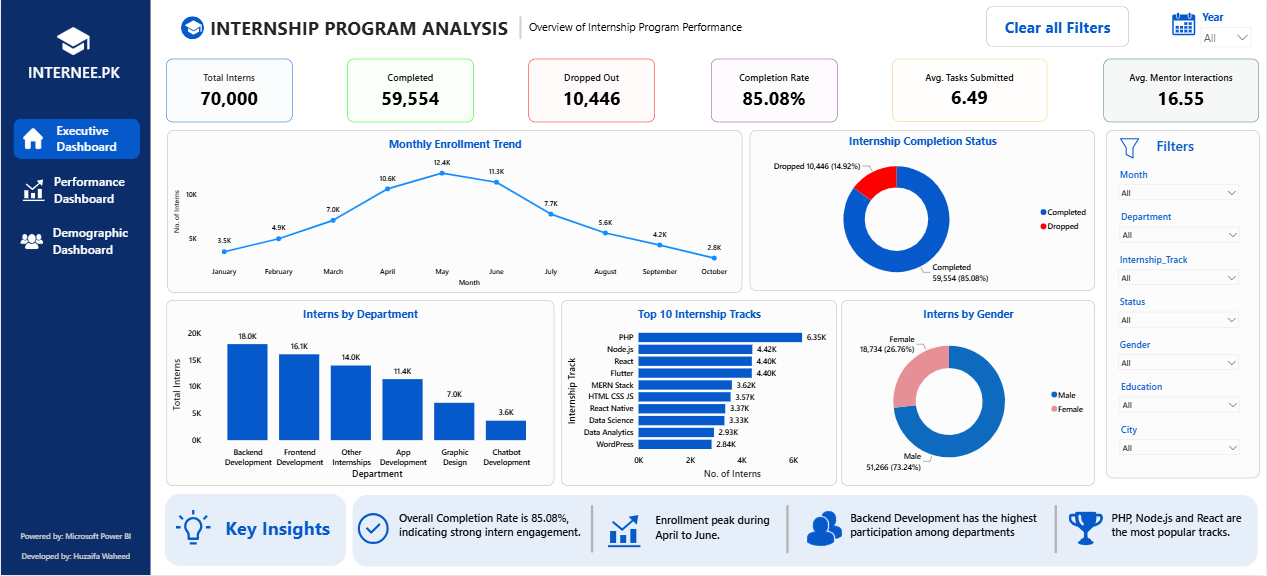

The dashboard page shown, as its layout file describes it:
{"tool":"powerbi","page":{"name":"Executive Dashboard","canvas":[2200,1000],"ordinal":0},"visuals":[{"type":"shape","box":[0,0,260,1000],"z":0},{"type":"shape","box":[1921.4,225.7,267.1,605.7],"z":0,"group":"g6"},{"type":"image","box":[32.4,309.7,45.7,40],"z":0,"group":"g1"},{"type":"image","box":[32.1,399.7,45.7,40],"z":0,"group":"g3"},{"type":"shape","box":[314,28.3,40,40],"z":1000},{"type":"image","box":[1939.1,231.9,47.3,48.5],"z":1000,"group":"g6"},{"type":"textbox","box":[86.4,295.4,150,70],"z":1000,"group":"g1"},{"type":"textbox","box":[86.4,384,150,70],"z":1000,"group":"g3"},{"type":"image","box":[95.7,41.4,60,60],"z":2000},{"type":"textbox","box":[2004.9,233.3,114.3,44.3],"z":2000,"group":"g6"},{"type":"textbox","box":[36,102,180,50.4],"z":3000},{"type":"shape","box":[21,206,220,70],"z":3000,"group":"g2"},{"type":"group","id":"g1","title":"Group 2","box":[32.4,295.4,204,70],"z":3000,"group":"g4"},{"type":"group","id":"g2","title":"Group 1","box":[21,206,220,70],"z":4000},{"type":"image","box":[32.4,221.7,45.7,40],"z":4000,"group":"g2"},{"type":"group","id":"g3","title":"Group 3","box":[32.1,384,204.3,70],"z":4000,"group":"g5"},{"type":"textbox","box":[89.6,206,150,70],"z":5000,"group":"g2"},{"type":"group","id":"g4","title":"Group 4","box":[20.4,295.2,219.6,70.2],"z":5000},{"type":"group","id":"g5","title":"Group 5","box":[20.4,384,219.6,70],"z":6000},{"type":"image","box":[318.8,33.2,30.4,30.7],"z":7000},{"type":"actionButton","box":[20.4,295.2,219.6,69.6],"z":7000,"group":"g4"},{"type":"textbox","box":[358.1,21.2,545.7,61.4],"z":8000},{"type":"actionButton","box":[20.4,384,219.6,69.6],"z":8000,"group":"g5"},{"type":"shape","box":[893.8,28.3,20,40],"z":9000},{"type":"textbox","box":[913.3,28,413.7,44],"z":10000},{"type":"slicer","fields":{"Values":["internship_program_2025.Enrollment_Date.Variation.Date Hierarchy.Year"]},"box":[2077,10,108,80],"z":11000},{"type":"image","box":[2036,21,40,40],"z":12000},{"type":"cardVisual","fields":{"Data":["internship_program_2025.Total Interns"]},"box":[286.7,101.7,220,110],"z":13000},{"type":"cardVisual","fields":{"Data":["internship_program_2025.Completed Interns"]},"box":[602.5,102,220,110],"z":14000},{"type":"cardVisual","fields":{"Data":["internship_program_2025.Dropped Interns"]},"box":[918.3,102,220,110],"z":15000},{"type":"cardVisual","fields":{"Data":["internship_program_2025.Completion Rate"]},"box":[1234.1,101.7,220,110],"z":16000},{"type":"cardVisual","fields":{"Data":["internship_program_2025.Average Tasks Submitted"]},"box":[1550.9,101.9,269.8,109.9],"z":17000},{"type":"cardVisual","fields":{"Data":["internship_program_2025.Average Mentor Interactions"]},"box":[1916.5,102,270,110],"z":18000},{"type":"lineChart","title":"Monthly Enrollment Trend","fields":{"Y":["internship_program_2025.Total Interns"],"Category":["internship_program_2025.Enrollment_Date.Variation.Date Hierarchy.Month"]},"box":[288.3,225,1000,283.3],"z":19000},{"type":"group","id":"g6","title":"Group 6","box":[1921.4,225.7,267.1,605.7],"z":20000},{"type":"slicer","fields":{"Values":["internship_program_2025.Enrollment_Date.Variation.Date Hierarchy.Month"]},"box":[1933.1,286.4,230,70],"z":21000},{"type":"slicer","fields":{"Values":["internship_program_2025.Department"]},"box":[1934,360,230,70],"z":22000},{"type":"slicer","fields":{"Values":["internship_program_2025.Internship_Track"]},"box":[1933.1,434,230,70],"z":23000},{"type":"slicer","fields":{"Values":["internship_program_2025.Status"]},"box":[1933.1,508,230,70],"z":24000},{"type":"slicer","fields":{"Values":["internship_program_2025.Gender"]},"box":[1933.1,582,230,70],"z":25000},{"type":"slicer","fields":{"Values":["internship_program_2025.Education"]},"box":[1934.6,656,230,70],"z":26000},{"type":"slicer","fields":{"Values":["internship_program_2025.City"]},"box":[1934.6,730,230,70],"z":27000},{"type":"donutChart","title":"Internship Completion Status","fields":{"Category":["internship_program_2025.Status"],"Y":["internship_program_2025.Total Interns"]},"box":[1302.5,225,600,280],"z":28000},{"type":"clusteredColumnChart","title":"Interns by Department","fields":{"Category":["internship_program_2025.Department"],"Y":["internship_program_2025.Total Interns"]},"box":[286.7,521.7,675,323.3],"z":29000},{"type":"clusteredBarChart","title":"Top 10 Internship Tracks","fields":{"Category":["internship_program_2025.Internship_Track"],"Y":["internship_program_2025.Total Interns"]},"box":[973.3,521.7,480,323.3],"z":30000},{"type":"donutChart","title":"Interns by Gender","fields":{"Category":["internship_program_2025.Gender"],"Y":["internship_program_2025.Total Interns"]},"box":[1461.7,521.7,441.7,323.3],"z":31000},{"type":"shape","box":[285.8,859.4,315.8,125.9],"z":32000},{"type":"image","box":[303.8,887.4,60,60],"z":33000},{"type":"shape","box":[610,860,1575,125],"z":34000},{"type":"textbox","box":[377.7,891.4,205.9,56],"z":35000},{"type":"image","box":[617.1,890,60,60],"z":36000},{"type":"textbox","box":[687.1,882.9,331.4,74.3],"z":37000},{"type":"shape","box":[1004.3,878.6,47.1,82.9],"z":38000},{"type":"image","box":[1051.4,892.9,60,60],"z":39000},{"type":"textbox","box":[1132.9,887.1,235.7,71.4],"z":40000},{"type":"shape","box":[1344.3,878.6,48.6,84.3],"z":41000},{"type":"image","box":[1401.4,890,60,60],"z":42000},{"type":"textbox","box":[1471.4,882.9,350,74.3],"z":43000},{"type":"shape","box":[1810,878.6,47.1,84.3],"z":44000},{"type":"image","box":[1857.1,890,60,60],"z":45000},{"type":"textbox","box":[1927.1,882.9,244.3,74.3],"z":46000},{"type":"actionButton","box":[1713.3,11,248.8,70.5],"z":46001}]}

Visuals, with their boxes in screenshot pixels (x1, y1, x2, y2), scaled from the page's 2200x1000 canvas onto the 1267x576 screenshot:
shape: [x1=0, y1=0, x2=150, y2=575]
shape: [x1=1107, y1=130, x2=1260, y2=479]
image: [x1=19, y1=178, x2=45, y2=201]
image: [x1=18, y1=230, x2=45, y2=253]
shape: [x1=181, y1=16, x2=204, y2=39]
image: [x1=1117, y1=134, x2=1144, y2=162]
textbox: [x1=50, y1=170, x2=136, y2=210]
textbox: [x1=50, y1=221, x2=136, y2=262]
image: [x1=55, y1=24, x2=90, y2=58]
textbox: [x1=1155, y1=134, x2=1220, y2=160]
textbox: [x1=21, y1=59, x2=124, y2=88]
shape: [x1=12, y1=119, x2=139, y2=159]
"Group 2" group: [x1=19, y1=170, x2=136, y2=210]
"Group 1" group: [x1=12, y1=119, x2=139, y2=159]
image: [x1=19, y1=128, x2=45, y2=151]
"Group 3" group: [x1=18, y1=221, x2=136, y2=262]
textbox: [x1=52, y1=119, x2=138, y2=159]
"Group 4" group: [x1=12, y1=170, x2=138, y2=210]
"Group 5" group: [x1=12, y1=221, x2=138, y2=262]
image: [x1=184, y1=19, x2=201, y2=37]
actionButton: [x1=12, y1=170, x2=138, y2=210]
textbox: [x1=206, y1=12, x2=521, y2=48]
actionButton: [x1=12, y1=221, x2=138, y2=261]
shape: [x1=515, y1=16, x2=526, y2=39]
textbox: [x1=526, y1=16, x2=764, y2=41]
slicer - internship_program_2025.Enrollment_Date.Variation.Date Hierarchy.Year: [x1=1196, y1=6, x2=1258, y2=52]
image: [x1=1173, y1=12, x2=1196, y2=35]
cardVisual - internship_program_2025.Total Interns: [x1=165, y1=59, x2=292, y2=122]
cardVisual - internship_program_2025.Completed Interns: [x1=347, y1=59, x2=474, y2=122]
cardVisual - internship_program_2025.Dropped Interns: [x1=529, y1=59, x2=656, y2=122]
cardVisual - internship_program_2025.Completion Rate: [x1=711, y1=59, x2=837, y2=122]
cardVisual - internship_program_2025.Average Tasks Submitted: [x1=893, y1=59, x2=1049, y2=122]
cardVisual - internship_program_2025.Average Mentor Interactions: [x1=1104, y1=59, x2=1259, y2=122]
"Monthly Enrollment Trend" lineChart: [x1=166, y1=130, x2=742, y2=293]
"Group 6" group: [x1=1107, y1=130, x2=1260, y2=479]
slicer - internship_program_2025.Enrollment_Date.Variation.Date Hierarchy.Month: [x1=1113, y1=165, x2=1246, y2=205]
slicer - internship_program_2025.Department: [x1=1114, y1=207, x2=1246, y2=248]
slicer - internship_program_2025.Internship_Track: [x1=1113, y1=250, x2=1246, y2=290]
slicer - internship_program_2025.Status: [x1=1113, y1=293, x2=1246, y2=333]
slicer - internship_program_2025.Gender: [x1=1113, y1=335, x2=1246, y2=376]
slicer - internship_program_2025.Education: [x1=1114, y1=378, x2=1247, y2=418]
slicer - internship_program_2025.City: [x1=1114, y1=420, x2=1247, y2=461]
"Internship Completion Status" donutChart: [x1=750, y1=130, x2=1096, y2=291]
"Interns by Department" clusteredColumnChart: [x1=165, y1=300, x2=554, y2=487]
"Top 10 Internship Tracks" clusteredBarChart: [x1=561, y1=300, x2=837, y2=487]
"Interns by Gender" donutChart: [x1=842, y1=300, x2=1096, y2=487]
shape: [x1=165, y1=495, x2=346, y2=568]
image: [x1=175, y1=511, x2=210, y2=546]
shape: [x1=351, y1=495, x2=1258, y2=567]
textbox: [x1=218, y1=513, x2=336, y2=546]
image: [x1=355, y1=513, x2=390, y2=547]
textbox: [x1=396, y1=509, x2=587, y2=551]
shape: [x1=578, y1=506, x2=606, y2=554]
image: [x1=606, y1=514, x2=640, y2=549]
textbox: [x1=652, y1=511, x2=788, y2=552]
shape: [x1=774, y1=506, x2=802, y2=555]
image: [x1=807, y1=513, x2=842, y2=547]
textbox: [x1=847, y1=509, x2=1049, y2=551]
shape: [x1=1042, y1=506, x2=1070, y2=555]
image: [x1=1070, y1=513, x2=1104, y2=547]
textbox: [x1=1110, y1=509, x2=1251, y2=551]
actionButton: [x1=987, y1=6, x2=1130, y2=47]
